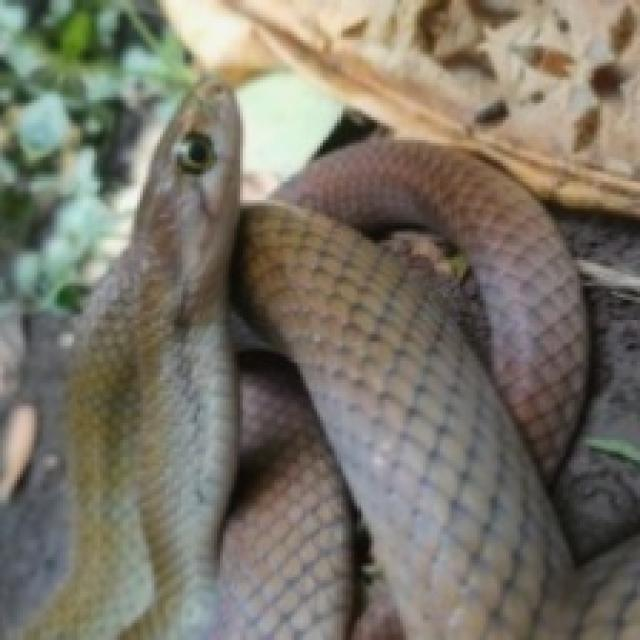reddish rat snake: (6, 83, 637, 637), (237, 137, 586, 637)
